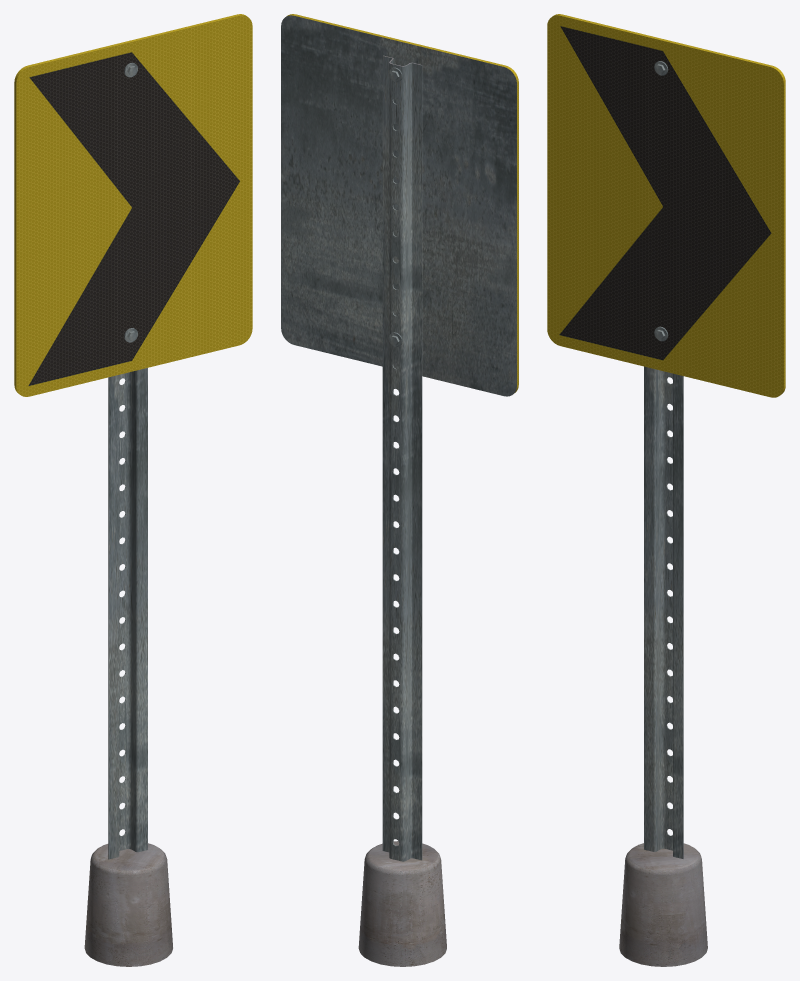
File: arrowe_nsoc.obj
3 views of the same model, side by side, from view 1: azimuth 30°, elevation 25°; view 2: azimuth 150°, elevation 25°; view 3: azimuth 330°, elevation 25° (orthographic).
Visible parts, largest first — view 1: sign_arrow_b_alt; view 2: sign_arrow_b_alt; view 3: sign_arrow_b_alt.
Boxes of the visible parts, bbox=[...] form: sign_arrow_b_alt: bbox=[14, 14, 252, 966]; sign_arrow_b_alt: bbox=[281, 14, 518, 966]; sign_arrow_b_alt: bbox=[547, 14, 785, 966].
Bounding box in the file's own units: 18 × 66.04 × 5.84.
Materials: 3 (3 with a texture image).
